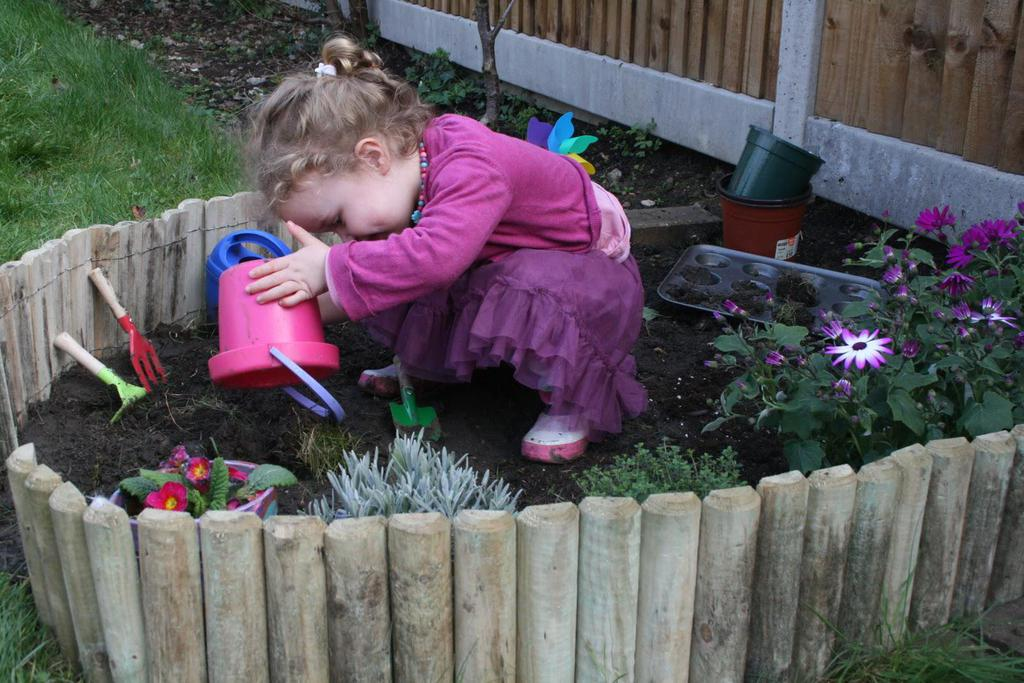child: (245, 37, 653, 467)
